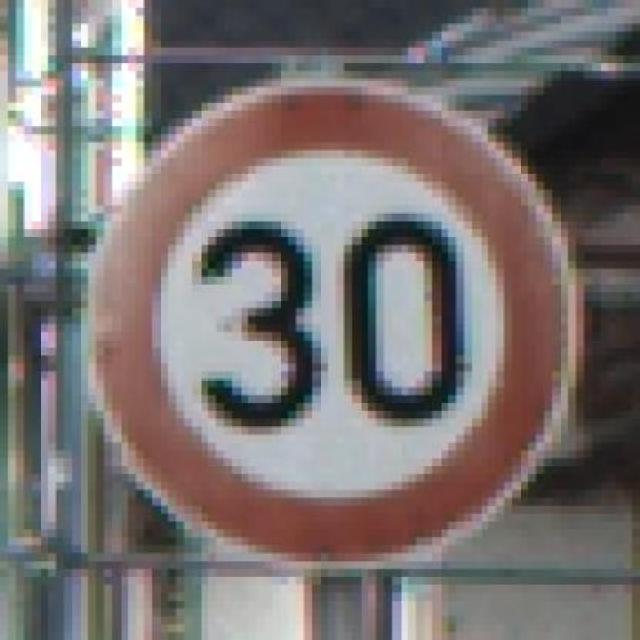Speed Limit 30 KMPh: (48, 70, 600, 584)
